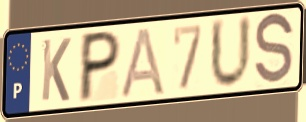7: (171, 21, 204, 93)
A: (119, 25, 167, 100)
K: (39, 36, 73, 104)
P: (76, 28, 124, 105)
S: (253, 10, 296, 90)
U: (208, 13, 253, 93)
